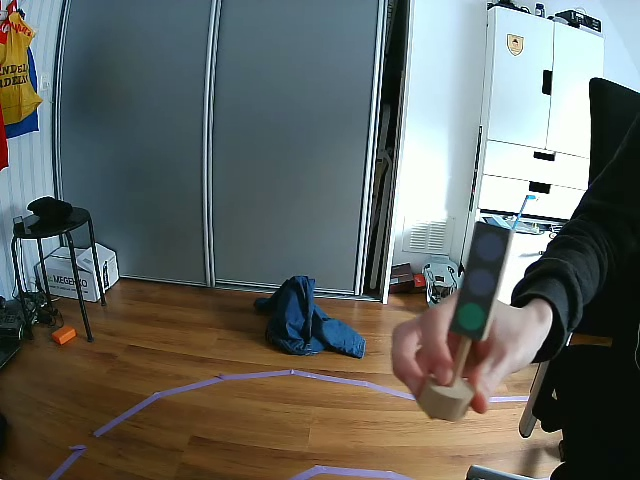groenlicht: (451, 228, 513, 333)
